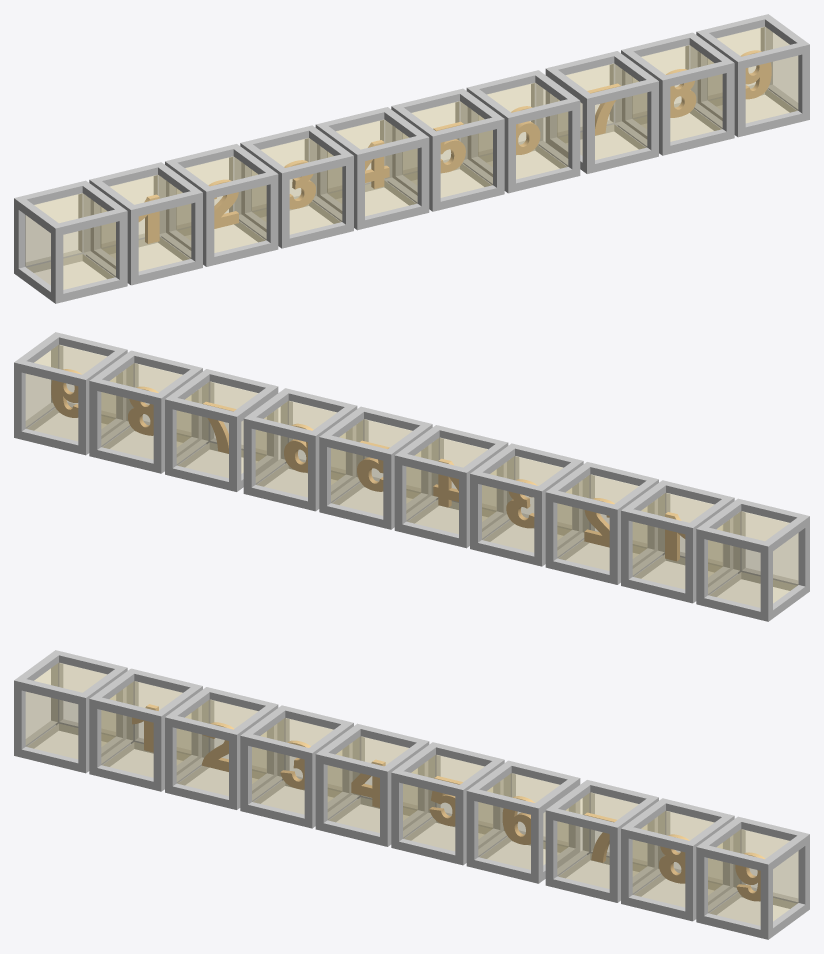
Rendered from nums.fbx.
The picture shows the model from 3 angles, top to bottom: view 1: azimuth 30°, elevation 25°; view 2: azimuth 150°, elevation 25°; view 3: azimuth 330°, elevation 25°; orthographic projection.
Visible parts, largest first — view 1: MeshChunk (×29); view 2: MeshChunk (×29); view 3: MeshChunk (×28).
Boxes of the visible parts, bbox=[...] form: MeshChunk (×29): bbox=[14, 14, 809, 303]; MeshChunk (×29): bbox=[14, 332, 809, 621]; MeshChunk (×28): bbox=[14, 650, 809, 939].
Size of the model in its own units: 36.09 by 3.44 by 3.44.
